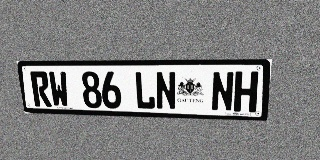6: (100, 71, 122, 109)
8: (81, 71, 102, 108)
H: (233, 71, 259, 112)
L: (134, 71, 155, 110)
N: (211, 71, 234, 112), (155, 71, 176, 110)
R: (30, 71, 52, 107)
W: (48, 71, 70, 107)
